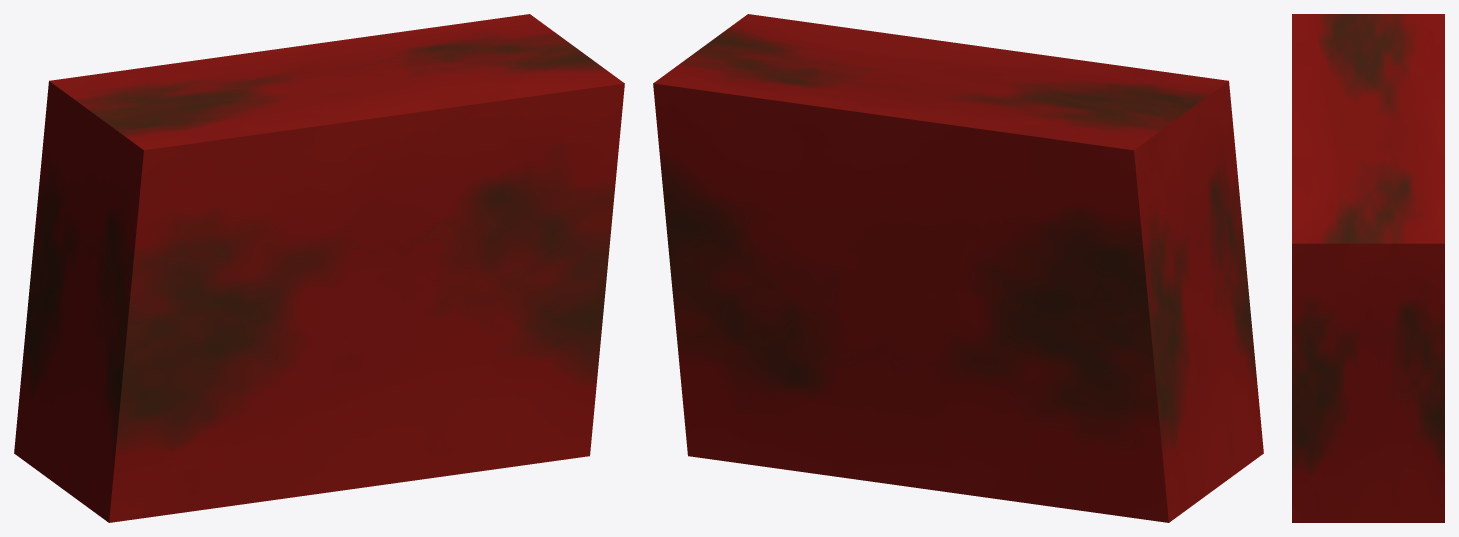
The model's file is puddle_L1.glb.
The picture shows the model from 3 angles, left to right: view 1: azimuth 30°, elevation 25°; view 2: azimuth 150°, elevation 25°; view 3: azimuth 270°, elevation 25°; orthographic projection. The views are drawn at different scales.
Parts seen in each view (by area): view 1: jerrycan; view 2: jerrycan; view 3: jerrycan.
Boxes of the visible parts, bbox=[...] form: jerrycan: bbox=[14, 14, 624, 522]; jerrycan: bbox=[653, 14, 1263, 522]; jerrycan: bbox=[1292, 14, 1444, 522].
Size of what is drawn, in the model's own units: 0.5016 by 0.3852 by 0.16.
1 material, 1 textured.
